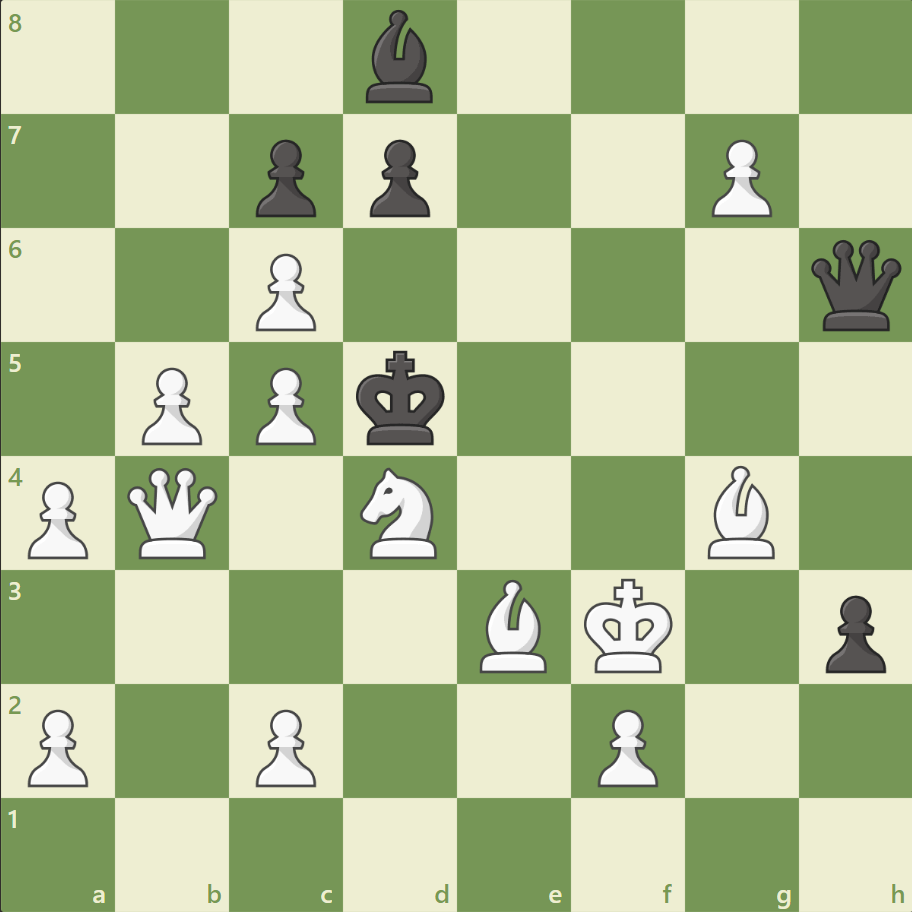B: (698, 460, 782, 563), (471, 574, 555, 676)
K: (579, 571, 679, 679)
N: (351, 461, 449, 564)
P: (701, 132, 776, 223), (247, 246, 322, 337), (133, 359, 208, 450), (247, 359, 322, 450), (20, 473, 95, 564), (20, 700, 95, 791), (247, 700, 322, 791), (588, 700, 662, 791)
Q: (124, 463, 223, 562)
b: (358, 6, 442, 109)
k: (351, 344, 451, 452)
p: (247, 132, 322, 223), (361, 132, 435, 223), (815, 586, 889, 677)
q: (805, 236, 904, 335)
